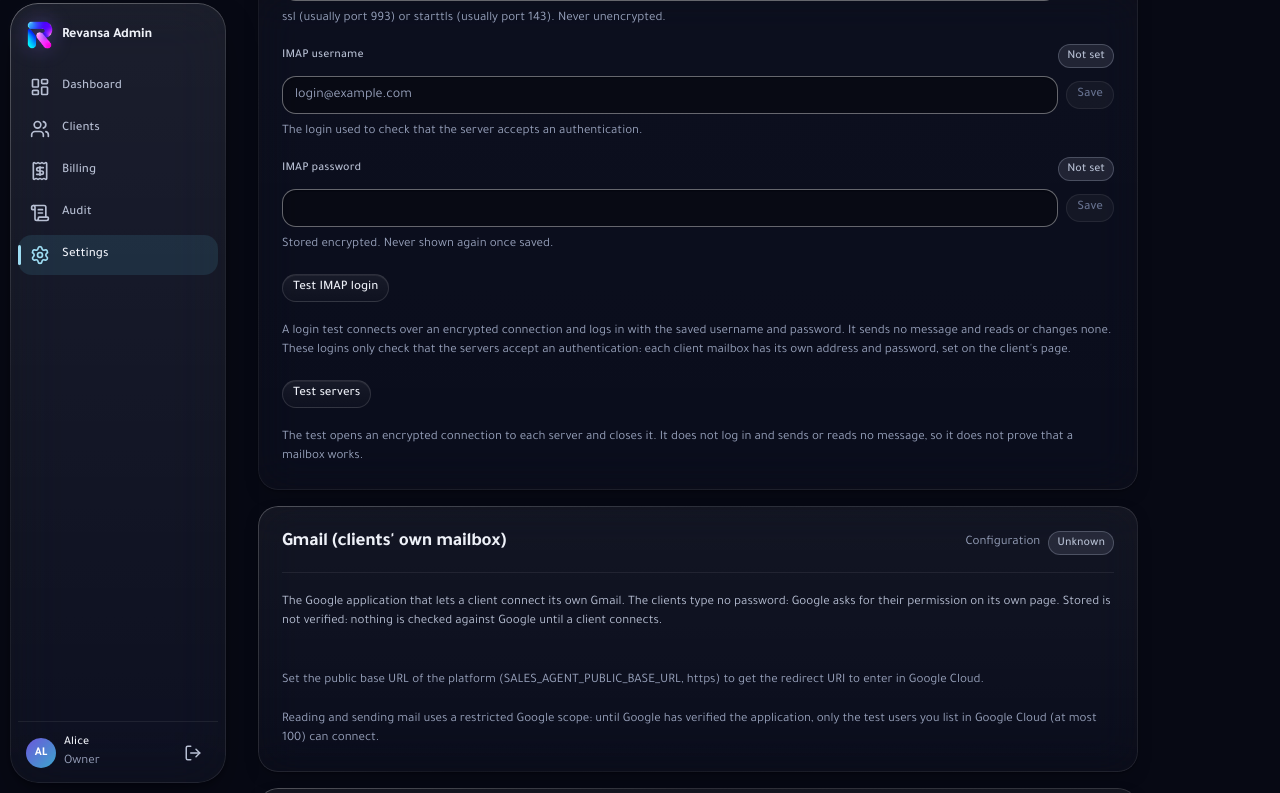
Test: Admin Email servers — logins › does not present the plain connection test as an authentication
The width and height of the screenshot is (1280, 793).
(page scrolled)
Click the button "Test servers". click: (327, 394)
box: [282, 380, 371, 408]
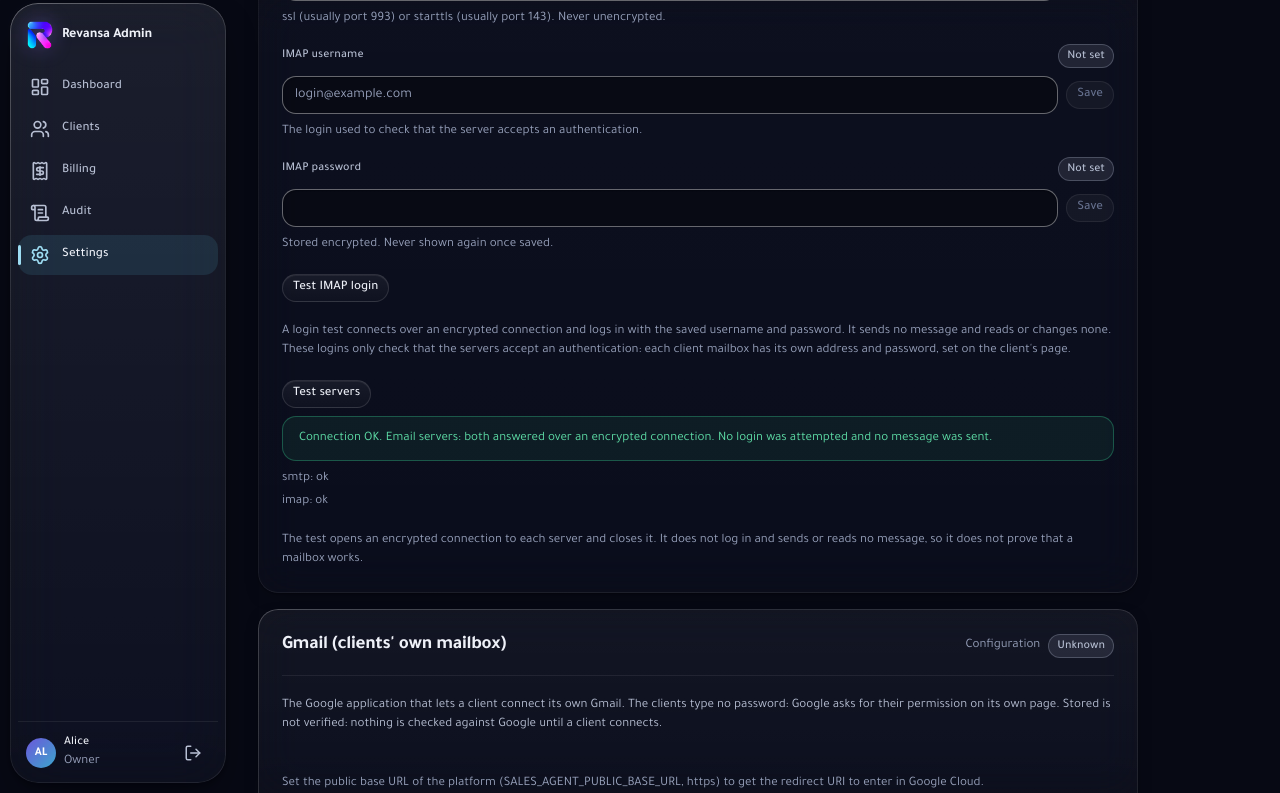
Expected: the text "No login was attempted" is shown, [386, 432, 992, 445]
